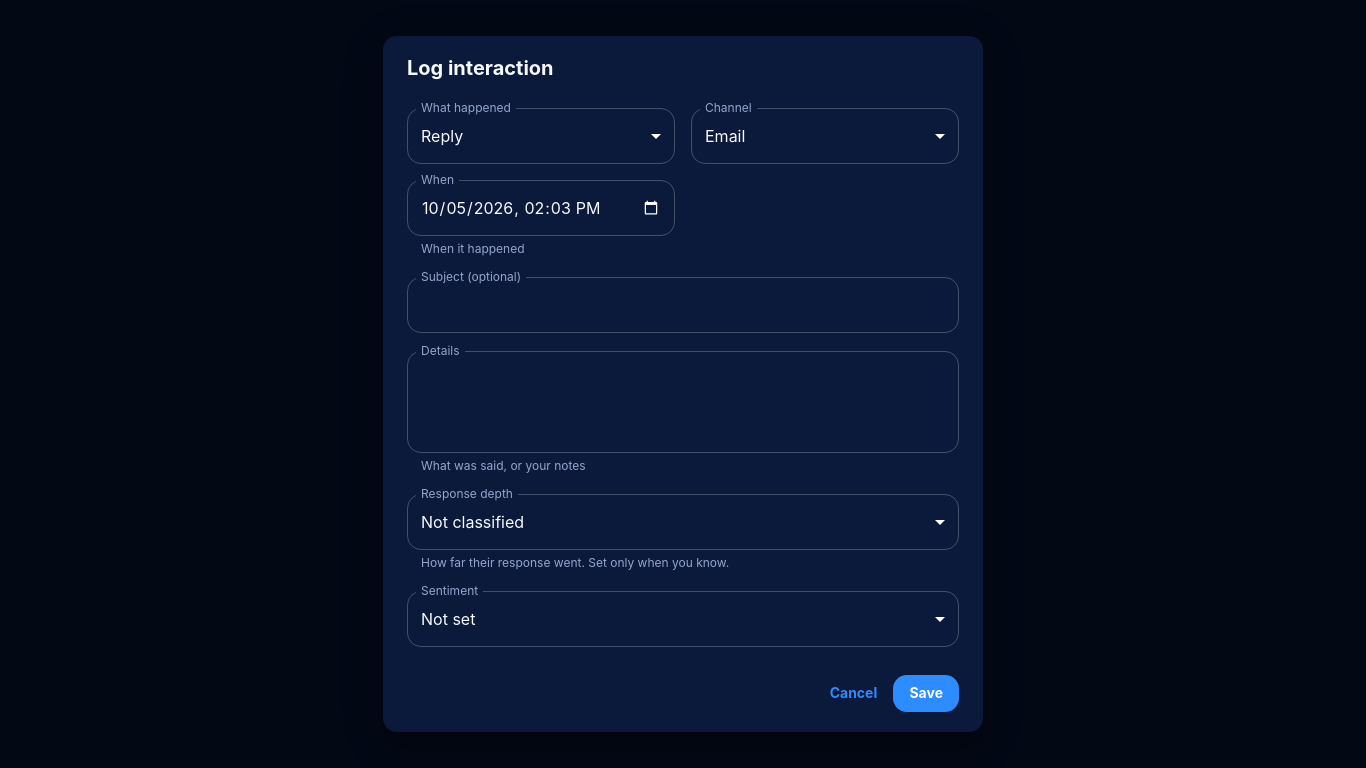
LogInteractionForm › asks for what was said when logging a reply, in plain words
The image size is (1366, 768).
Click the button "Save".
click(926, 693)  # box [894,675,959,712]
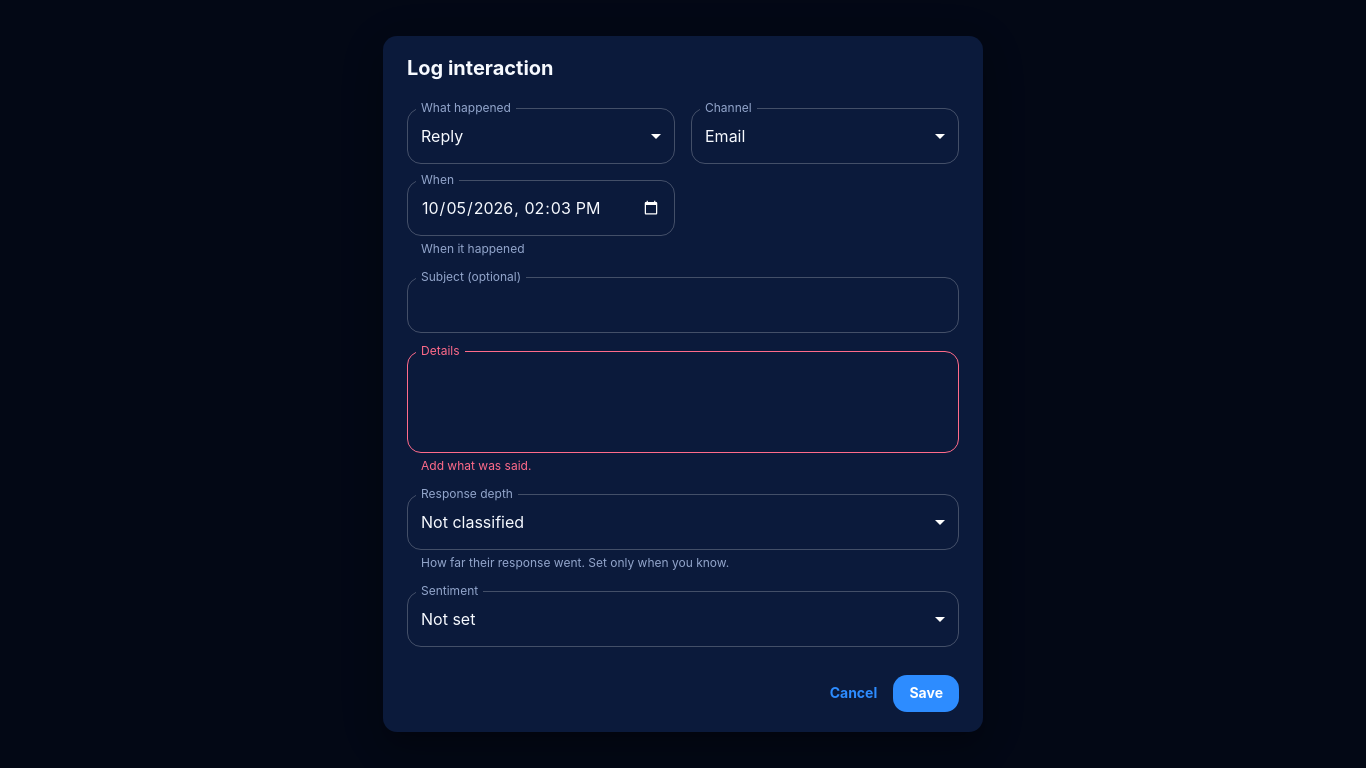
Expected: the text "Add what was said." is shown, [421,458,531,473]
